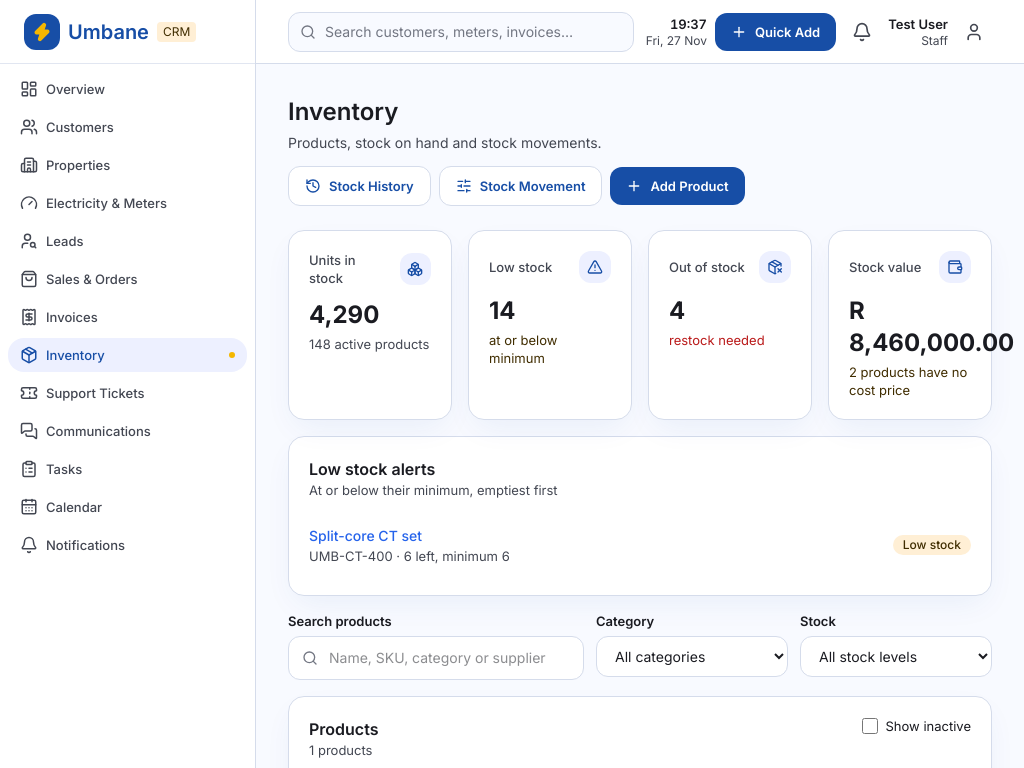
Test: stock movements › receives stock for a chosen product, offering only stocked ones
This screenshot has width=1024, height=768.
Click the button "Stock Movement".
click(521, 186)  # box [439,166,602,206]
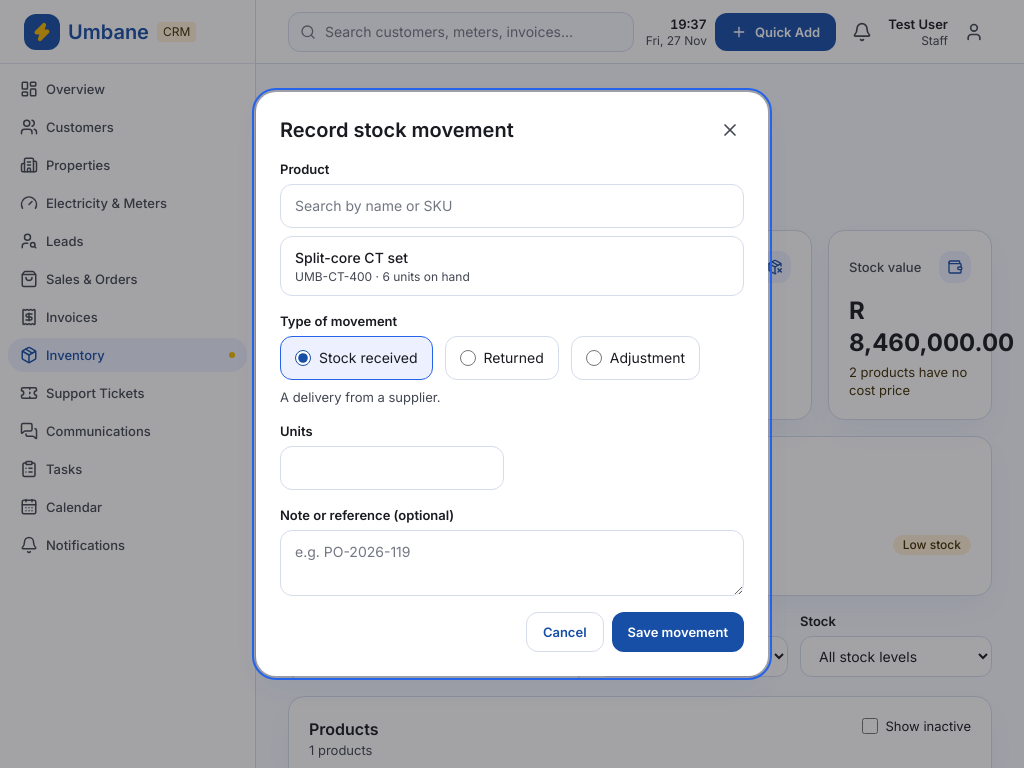
Expected: the button "Split-core CT set UMB-CT-400 · 6 units on hand" is shown
Click the button "Split-core CT set UMB-CT-400 · 6 units on hand".
click(352, 258)  # box [281,237,743,295]
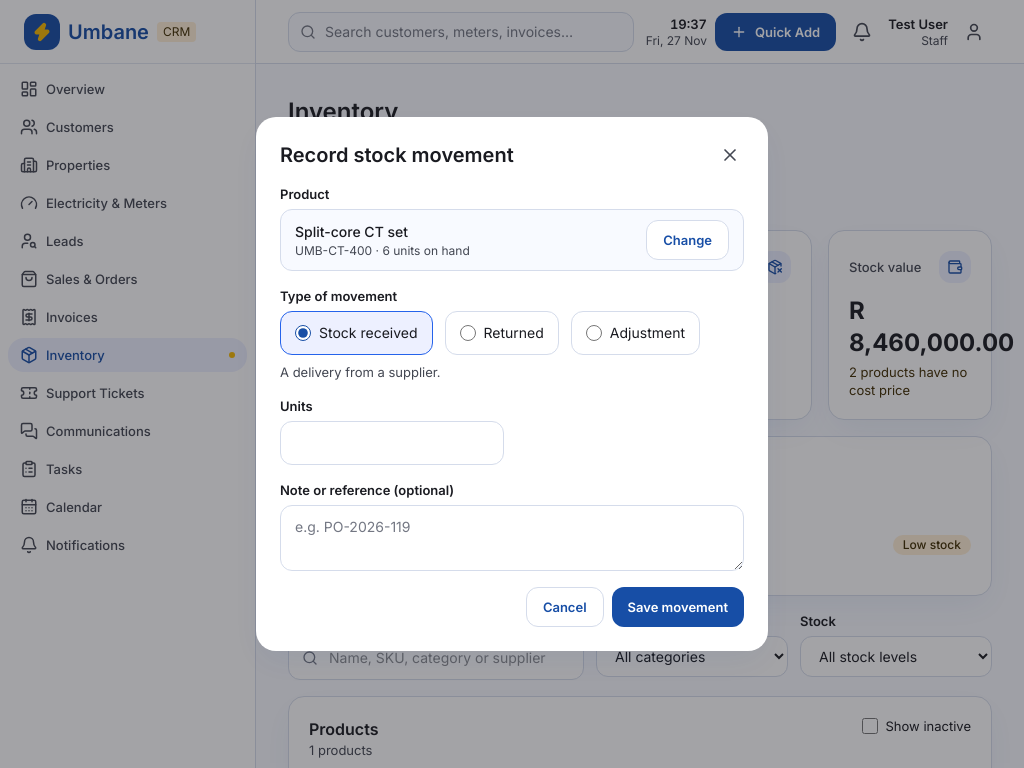
Type "10" into the field labelled "Units".
click(392, 443); type("10")  # box [280,421,504,465]
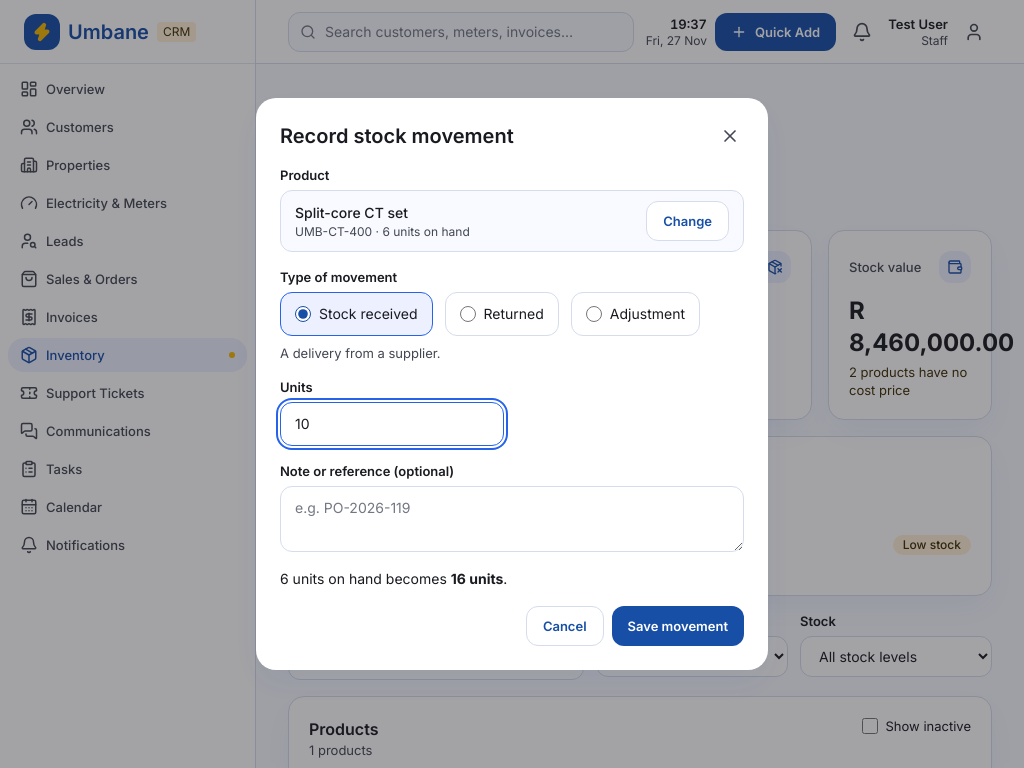
Expected: the message shows "6 units on hand becomes 16 units", [280,570,507,587]
Type "PO-119" into the text box labelled "Note or reference (optional)".
click(512, 519); type("PO-119")  # box [280,486,744,552]
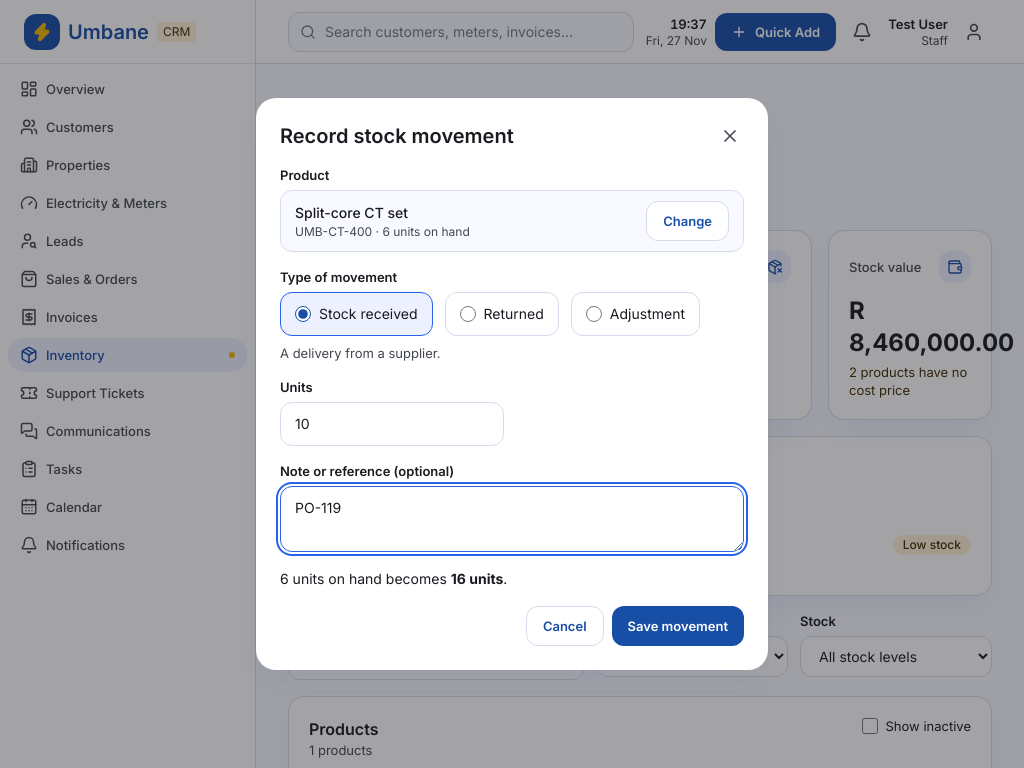
Click the button "Save movement".
click(678, 626)  # box [612,606,744,646]
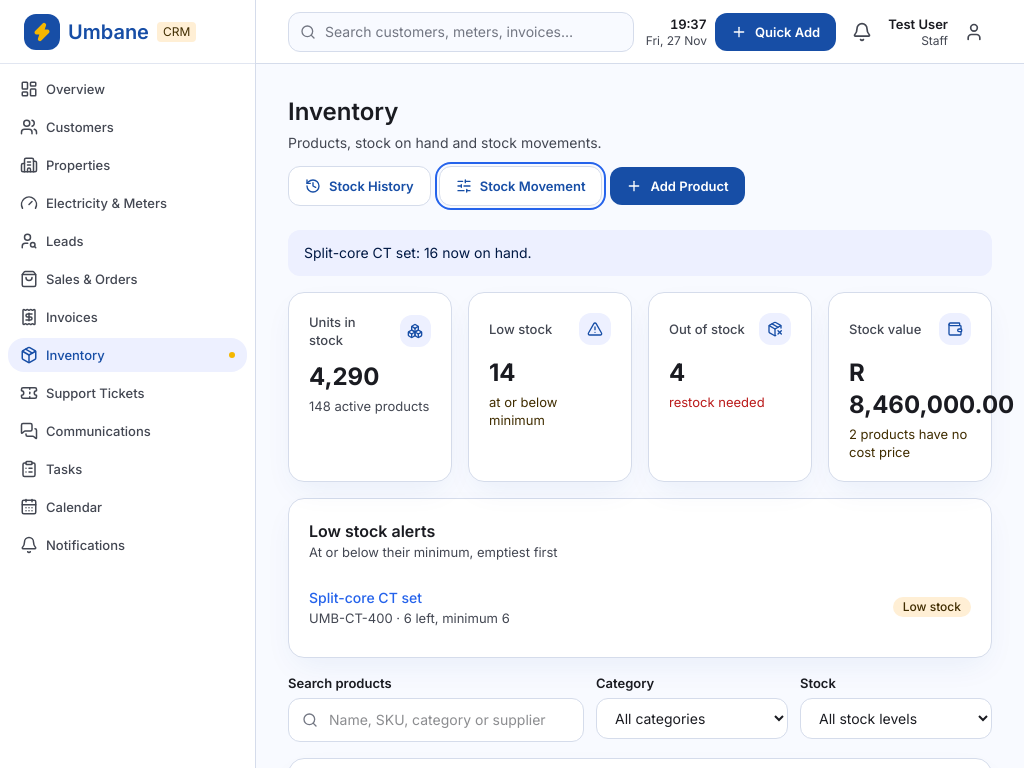
Expected: the text "Split-core CT set: 16 now on hand." is shown, [288,230,992,276]
